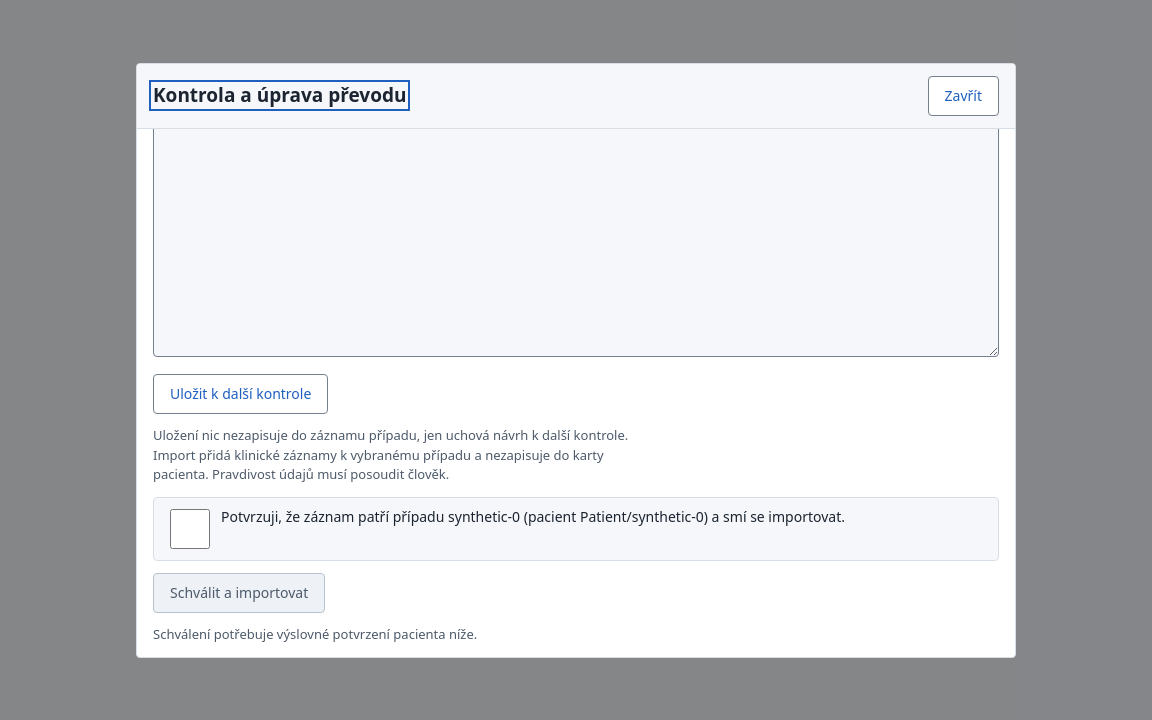
it: upload review dialog › requires explicit patient confirmation for a valid saved draft and shows a receipt when imported
(page scrolled)
Check: the button "Schválit a importovat" is disabled, box [153,572,325,612]
Check: the text "Schválení potřebuje výslovné potvrzení pacienta níže." is shown, box [153,624,477,642]
Click the checkbox labelled "Potvrzuji, že záznam patří případu": [190, 528] box [170,508,210,548]
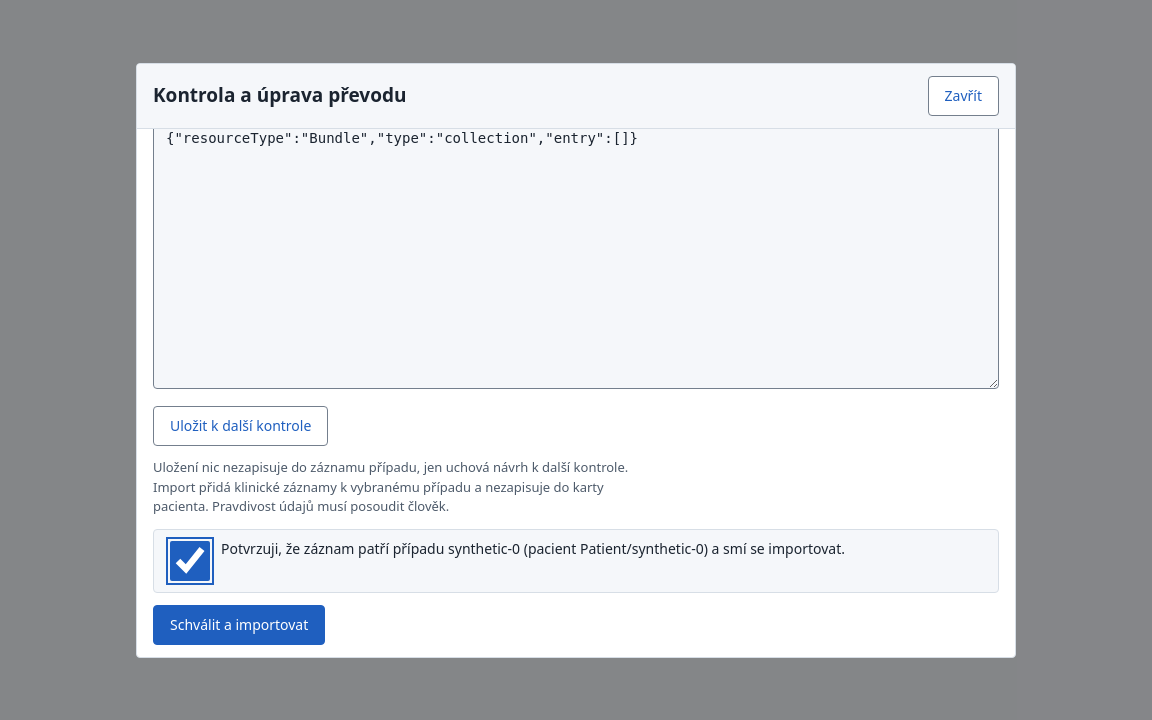
Check: the checkbox labelled "Potvrzuji, že záznam patří případu" is checked, box [170,540,210,580]
Check: the button "Schválit a importovat" is enabled
Click the button "Schválit a importovat": [239, 624] box [153,604,325,644]
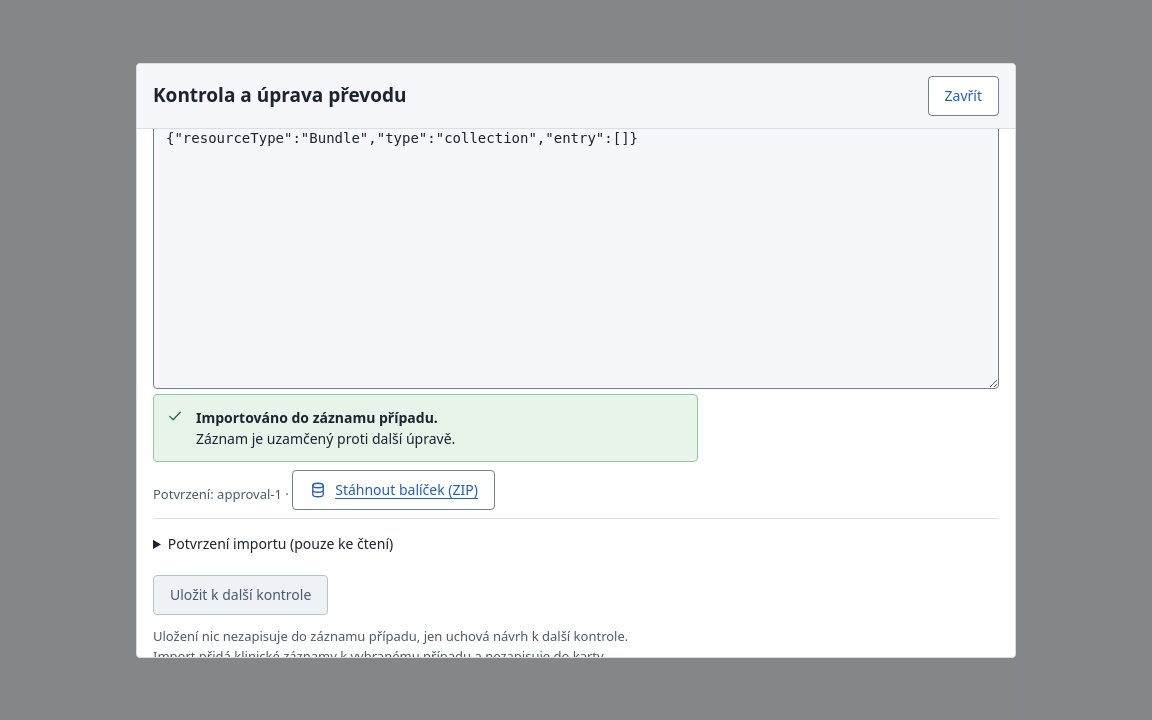
Check: the text "Importováno do záznamu případu." is shown, box [196,407,455,428]
Check: the link "Stáhnout balíček (ZIP)" is shown, box [292,470,495,510]
